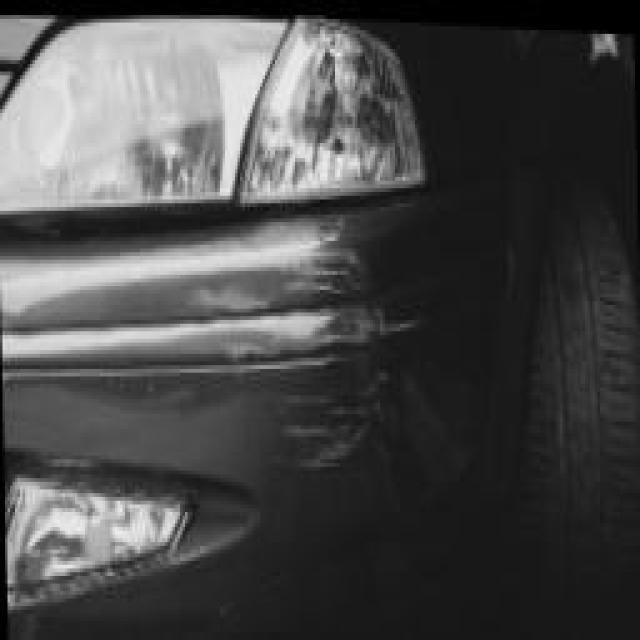Bumper: (95, 226, 425, 489)
